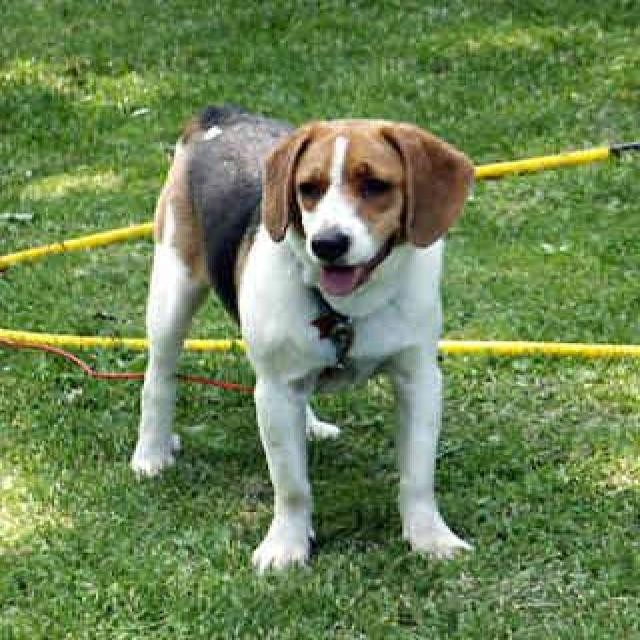beagle: (124, 100, 484, 583)
